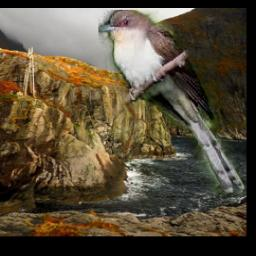Cuckoo: (97, 10, 244, 195)
